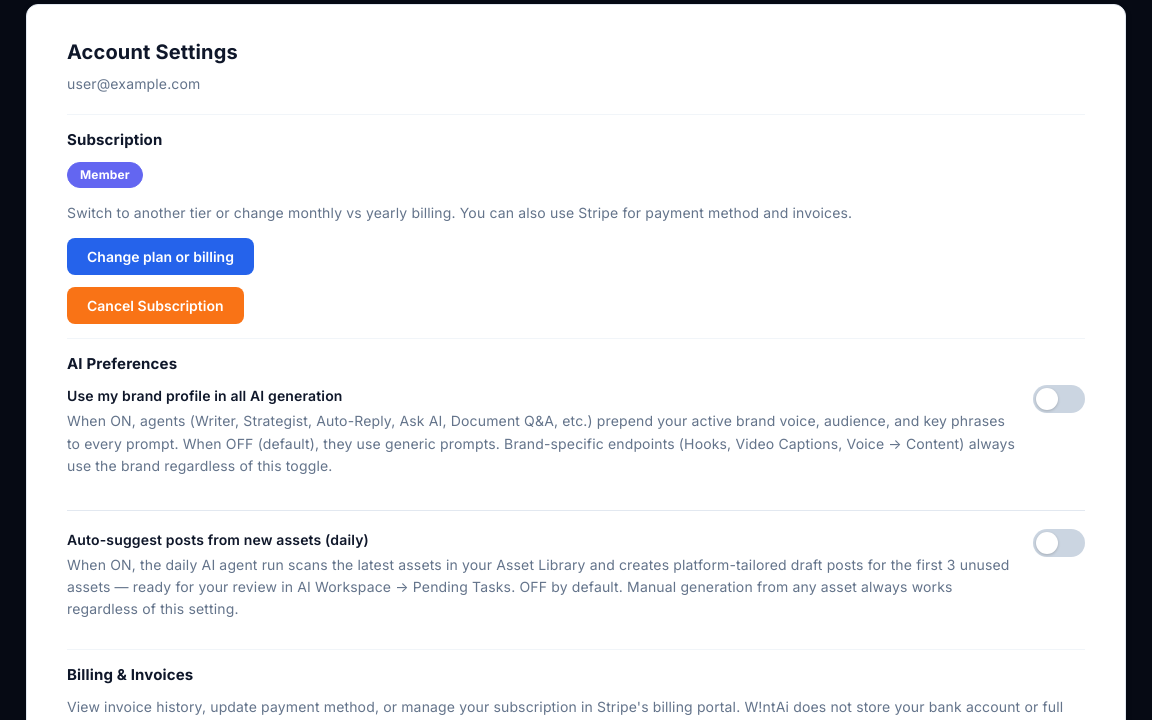
AccountSettings › hides confirm dialog when Keep Subscription is clicked
Click the button "Cancel Subscription" at (155,305), box [67,287,244,324]
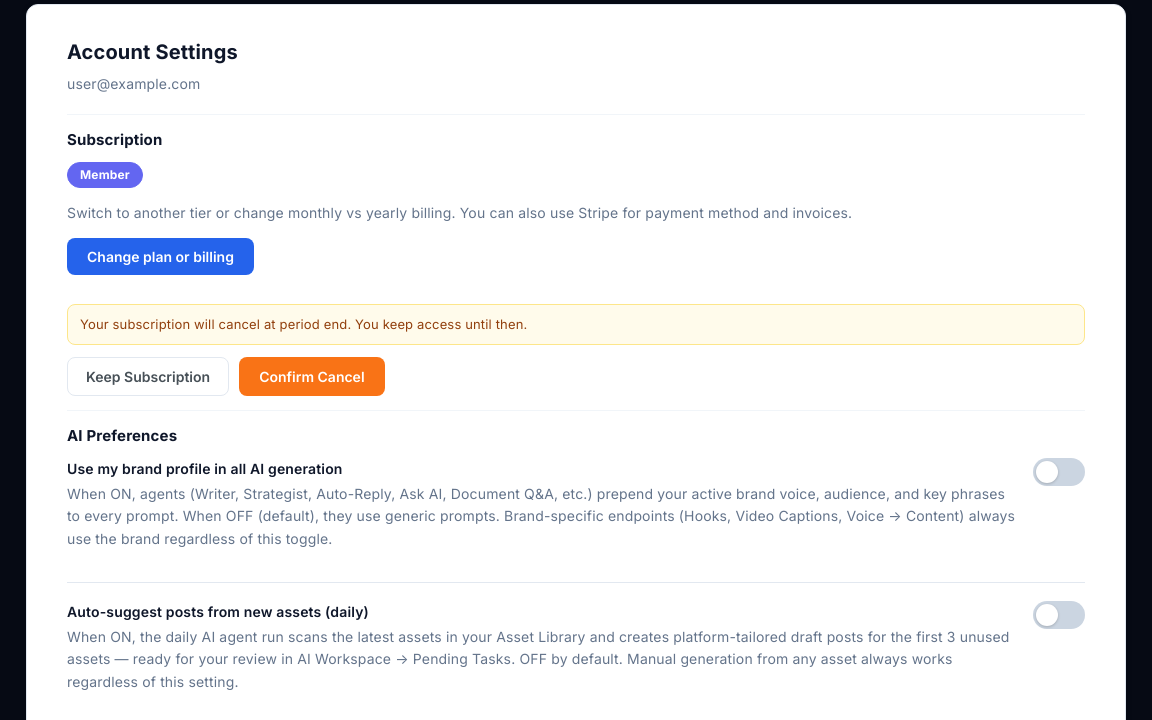
Click the button "Keep Subscription" at (148,377), box [67,357,229,396]
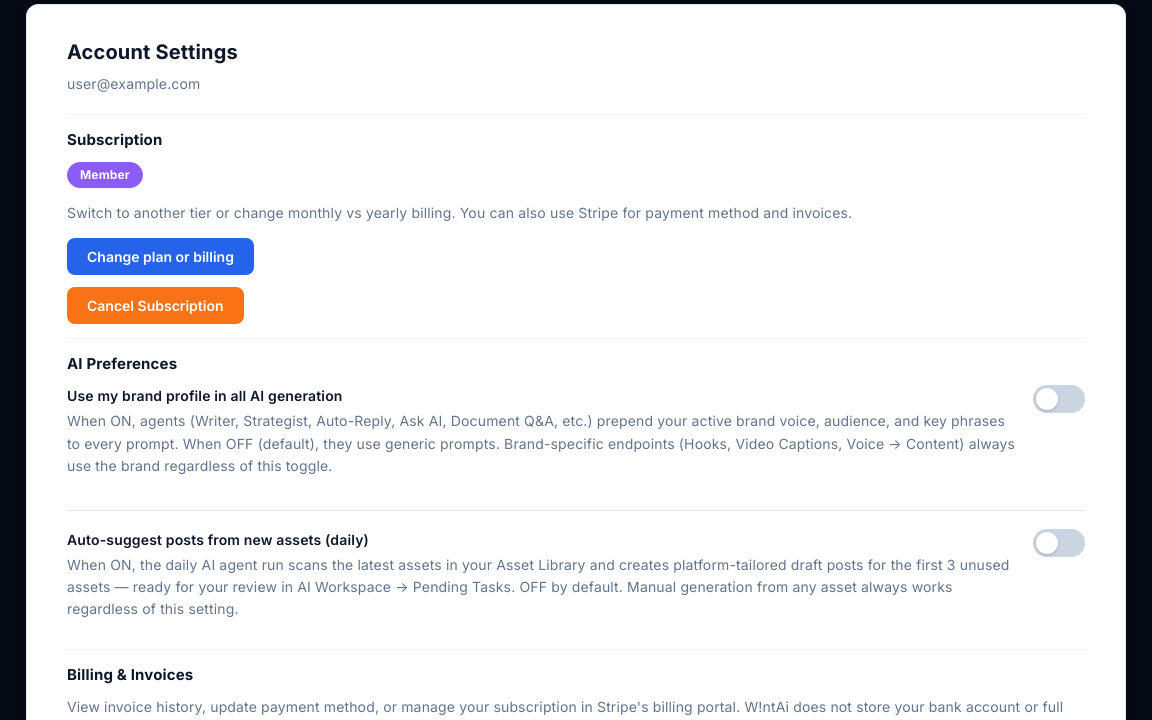
Now the button "Confirm Cancel" is gone
